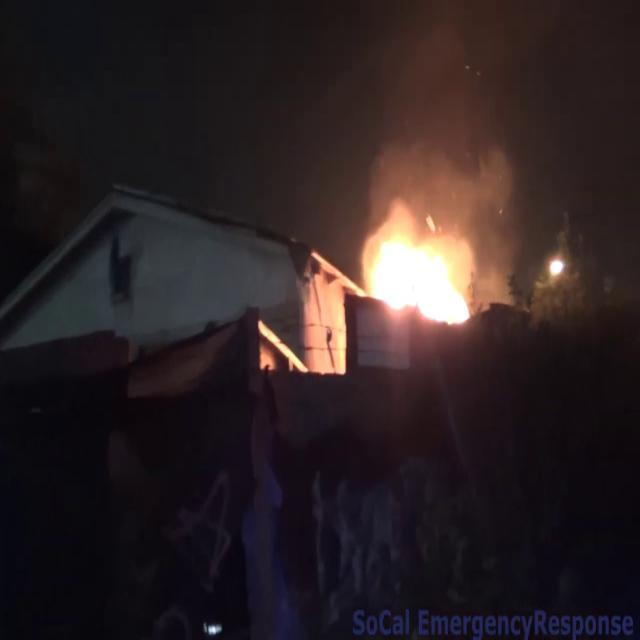Fire: (354, 210, 481, 329)
Smoke: (280, 0, 558, 254)
